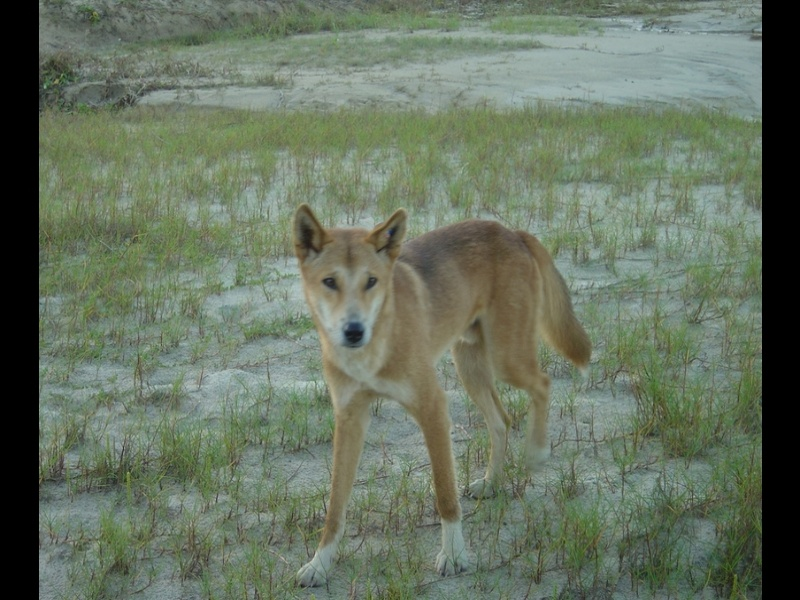dog: (276, 201, 593, 590)
